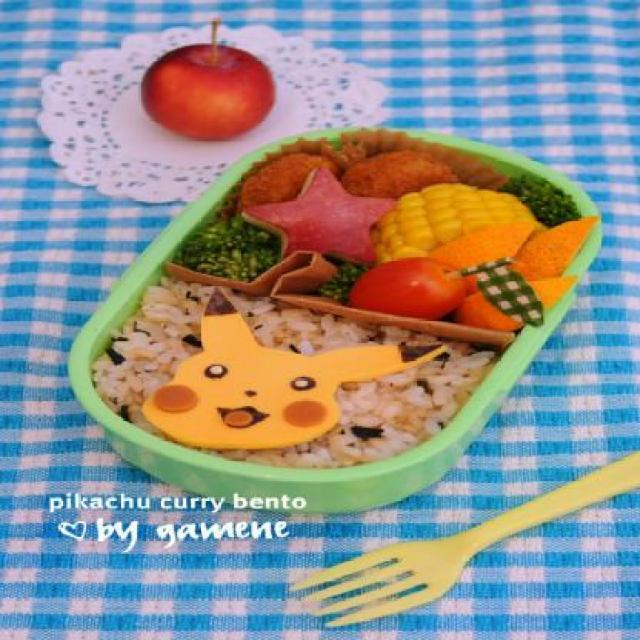Apple pie: (138, 35, 286, 140)
